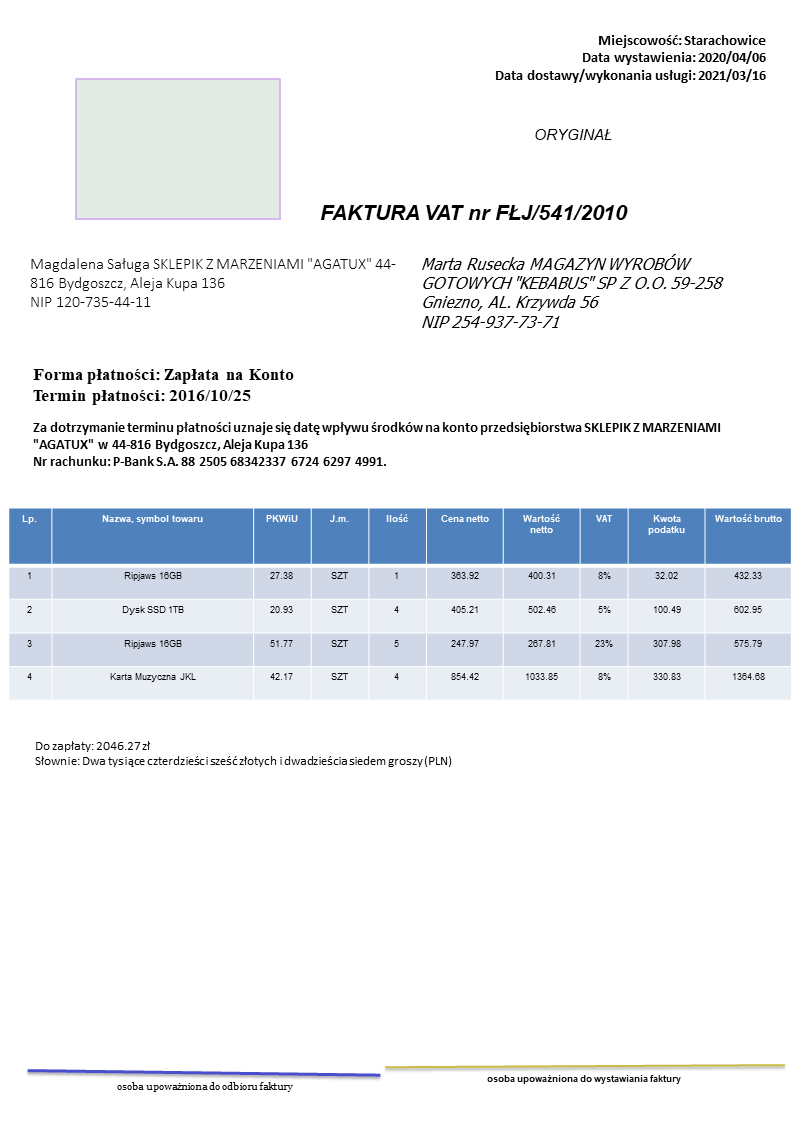Table: (8, 506, 794, 699)
TextBox: (29, 418, 725, 470), (419, 254, 728, 333), (26, 254, 396, 312), (491, 30, 768, 87), (32, 738, 454, 771), (30, 361, 296, 405), (317, 201, 629, 224), (482, 1071, 683, 1088), (115, 1077, 296, 1094), (533, 123, 615, 144)
